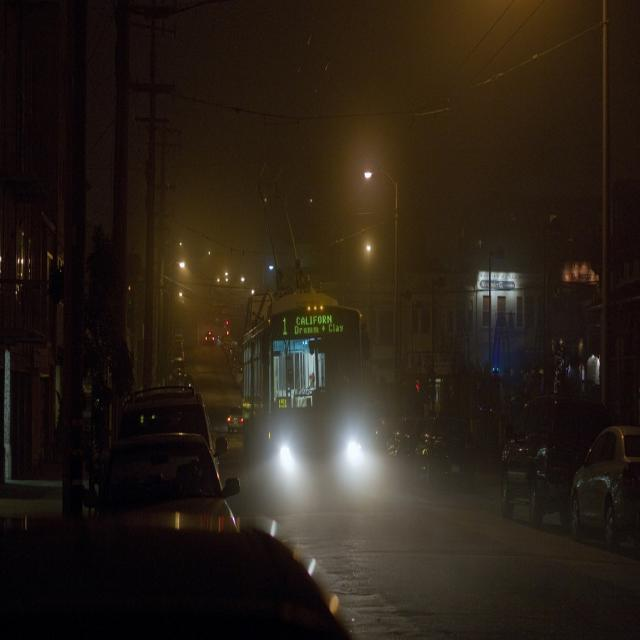Bus: (235, 282, 385, 515)
car: (25, 515, 366, 640), (78, 429, 238, 546), (491, 352, 577, 532), (579, 389, 640, 549), (128, 347, 210, 452), (415, 392, 483, 508), (171, 343, 189, 390)
